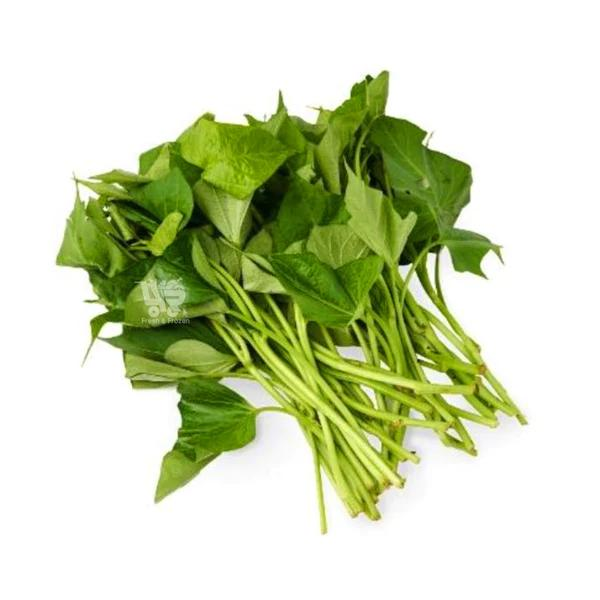organic: (58, 72, 524, 530)
